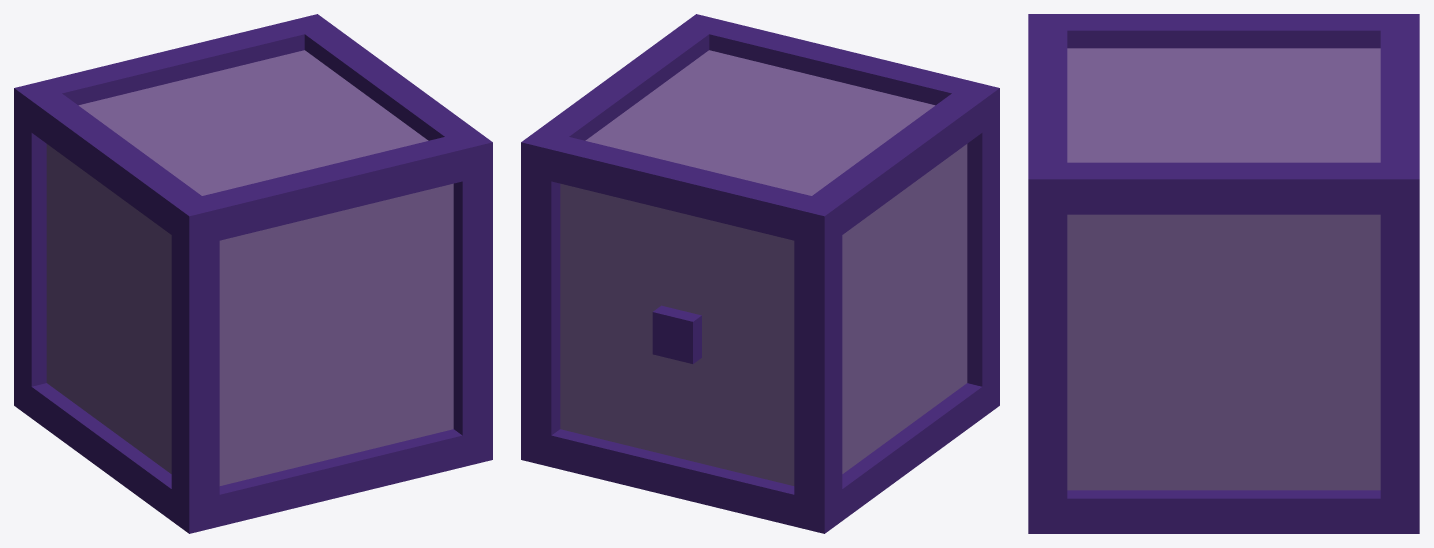
Rendered from pack.glb.
3 renders of one model, left to right at view 1: azimuth 30°, elevation 25°; view 2: azimuth 150°, elevation 25°; view 3: azimuth 270°, elevation 25°, orthographic. The views are drawn at different scales.
Visible parts, largest first — view 1: Cube; view 2: Cube; view 3: Cube.
Part boxes in pixels (bbox=[...]): Cube: bbox=[14, 14, 492, 533]; Cube: bbox=[521, 14, 999, 533]; Cube: bbox=[1028, 14, 1419, 533].
Size of the model in its own units: 0.675 by 0.675 by 0.675.
